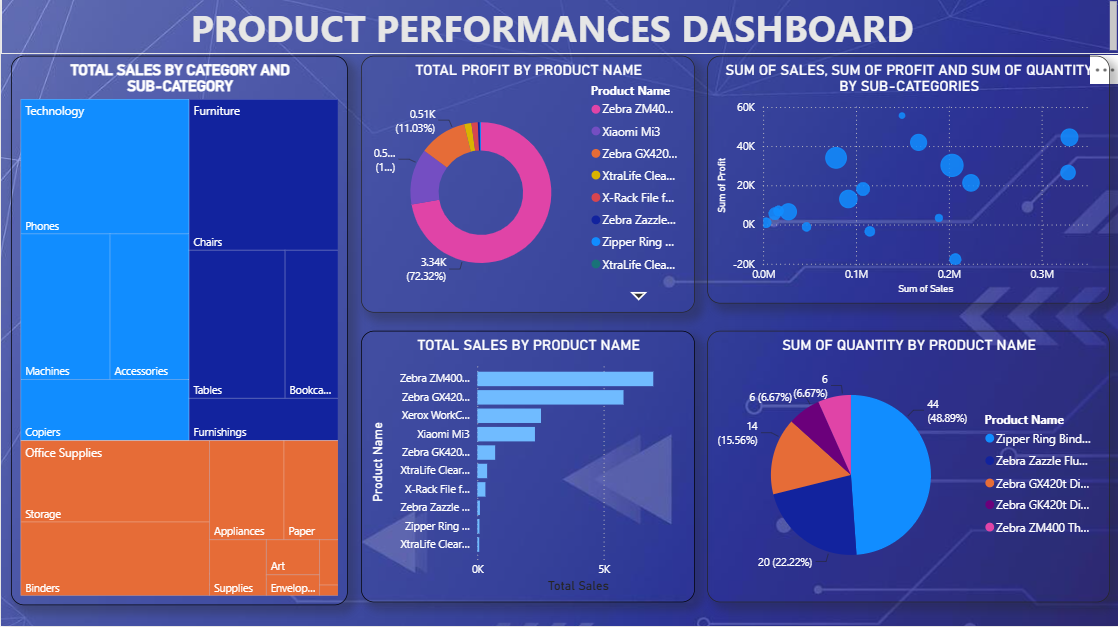

This screenshot's page, from the dashboard's own definition file:
{"tool":"powerbi","page":{"name":"Product Performance","canvas":[1280,720],"ordinal":1},"visuals":[{"type":"barChart","title":"TOTAL SALES BY PRODUCT NAME","fields":{"Category":["Superstore.Product Name"],"Y":["Superstore.Total Sales"]},"box":[411.7,381.7,381.7,310],"z":0},{"type":"textbox","box":[0,0,1280.3,66.3],"z":1000},{"type":"donutChart","title":"TOTAL PROFIT BY PRODUCT NAME","fields":{"Category":["Superstore.Product Name"],"Y":["Superstore.Total Profit"]},"box":[411.7,66.7,381.7,293.3],"z":2000},{"type":"treemap","title":"TOTAL SALES BY CATEGORY AND SUB-CATEGORY","fields":{"Group":["Superstore.Category"],"Details":["Superstore.Sub-Category"],"Values":["Superstore.Total Sales"]},"box":[11.7,66.7,385,628.3],"z":3000},{"type":"scatterChart","title":"SUM OF SALES, SUM OF PROFIT AND SUM OF QUANTITY BY SUB-CATEGORIES ","fields":{"X":["Sum(Superstore.Sales)"],"Y":["Sum(Superstore.Profit)"],"Category":["Superstore.Sub-Category"],"Size":["Sum(Superstore.Quantity)"]},"box":[806.7,66.7,460,283.3],"z":4000},{"type":"pieChart","title":"SUM OF QUANTITY BY PRODUCT NAME","fields":{"Category":["Superstore.Product Name"],"Y":["Sum(Superstore.Quantity)"]},"box":[806.7,381.7,460,310],"z":5000}]}

Visuals, with their boxes in screenshot pixels (x1, y1, x2, y2), scaled from the page's 1280x720 canvas onto the 1118x627 screenshot:
"TOTAL SALES BY PRODUCT NAME" barChart: [360,332,693,602]
textbox: [0,0,1117,58]
"TOTAL PROFIT BY PRODUCT NAME" donutChart: [360,58,693,314]
"TOTAL SALES BY CATEGORY AND SUB-CATEGORY" treemap: [10,58,346,605]
"SUM OF SALES, SUM OF PROFIT AND SUM OF QUANTITY BY SUB-CATEGORIES " scatterChart: [705,58,1106,305]
"SUM OF QUANTITY BY PRODUCT NAME" pieChart: [705,332,1106,602]
